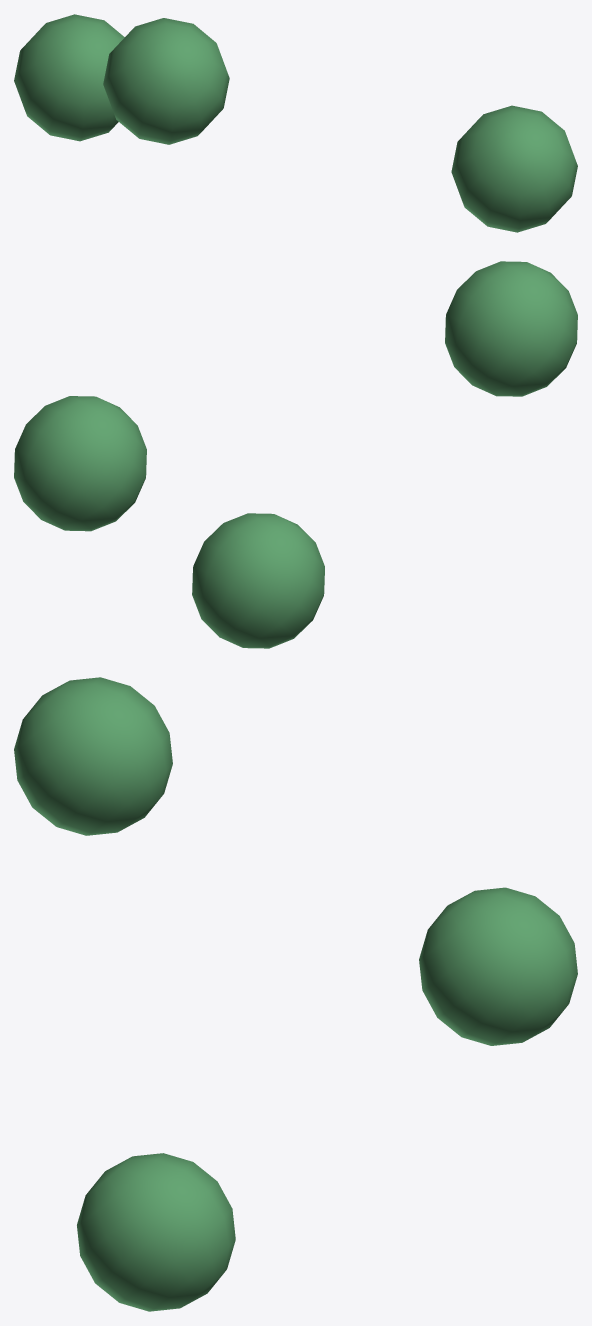
The picture shows the model from 3 angles, top to bottom: view 1: azimuth 30°, elevation 25°; view 2: azimuth 150°, elevation 25°; view 3: azimuth 270°, elevation 25°; orthographic projection. The views are drawn at different scales.
Parts seen in each view (by area): view 1: 盲肠后淋巴结; view 2: 盲肠后淋巴结; view 3: 盲肠后淋巴结.
Boxes of the visible parts, x1,y1,x2,y2 form: 盲肠后淋巴结: (14, 14, 577, 232); 盲肠后淋巴结: (14, 261, 577, 648); 盲肠后淋巴结: (14, 677, 577, 1311).
Bounding box in the file's own units: 0.0167 × 0.0104 × 0.0135.
